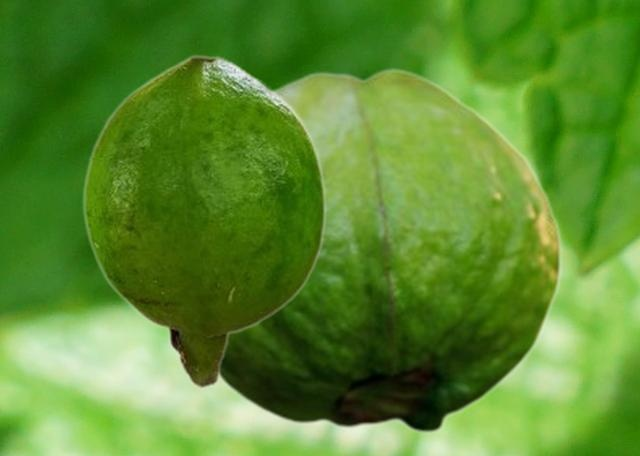guava: (220, 67, 561, 434), (82, 54, 326, 389)
